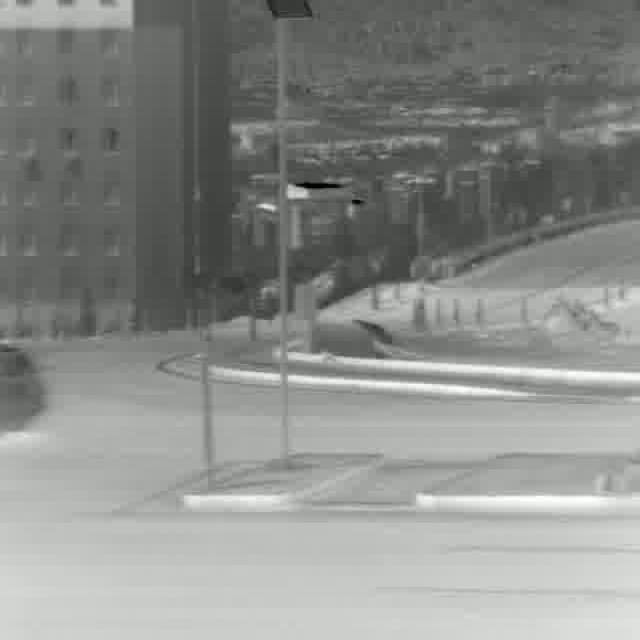Car: (0, 342, 47, 430)
